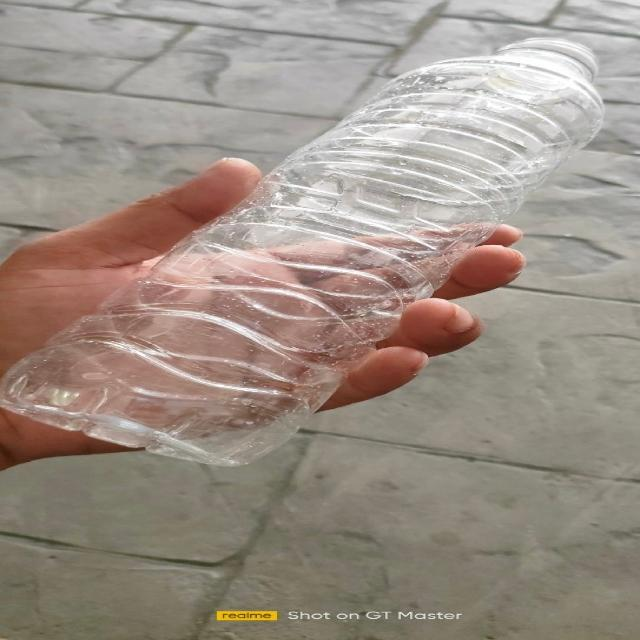plastic_bottle: (0, 36, 607, 466)
